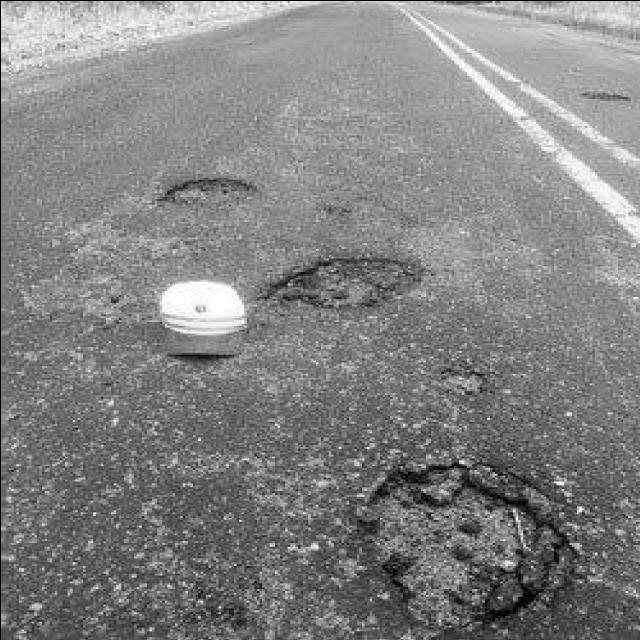jalan retak: (0, 417, 348, 640), (295, 177, 419, 230)
lubang: (322, 450, 584, 622), (2, 222, 200, 327), (235, 248, 443, 319), (125, 169, 279, 221), (425, 360, 494, 396), (572, 80, 636, 108)
